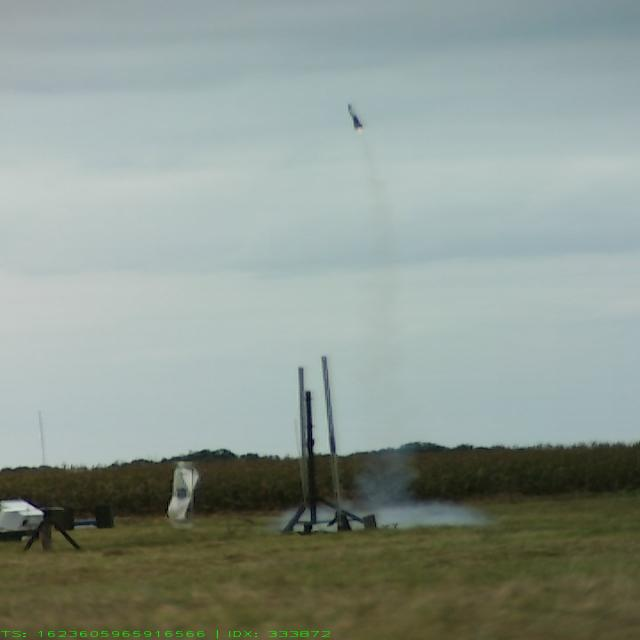Rocket: (346, 103, 363, 129)
